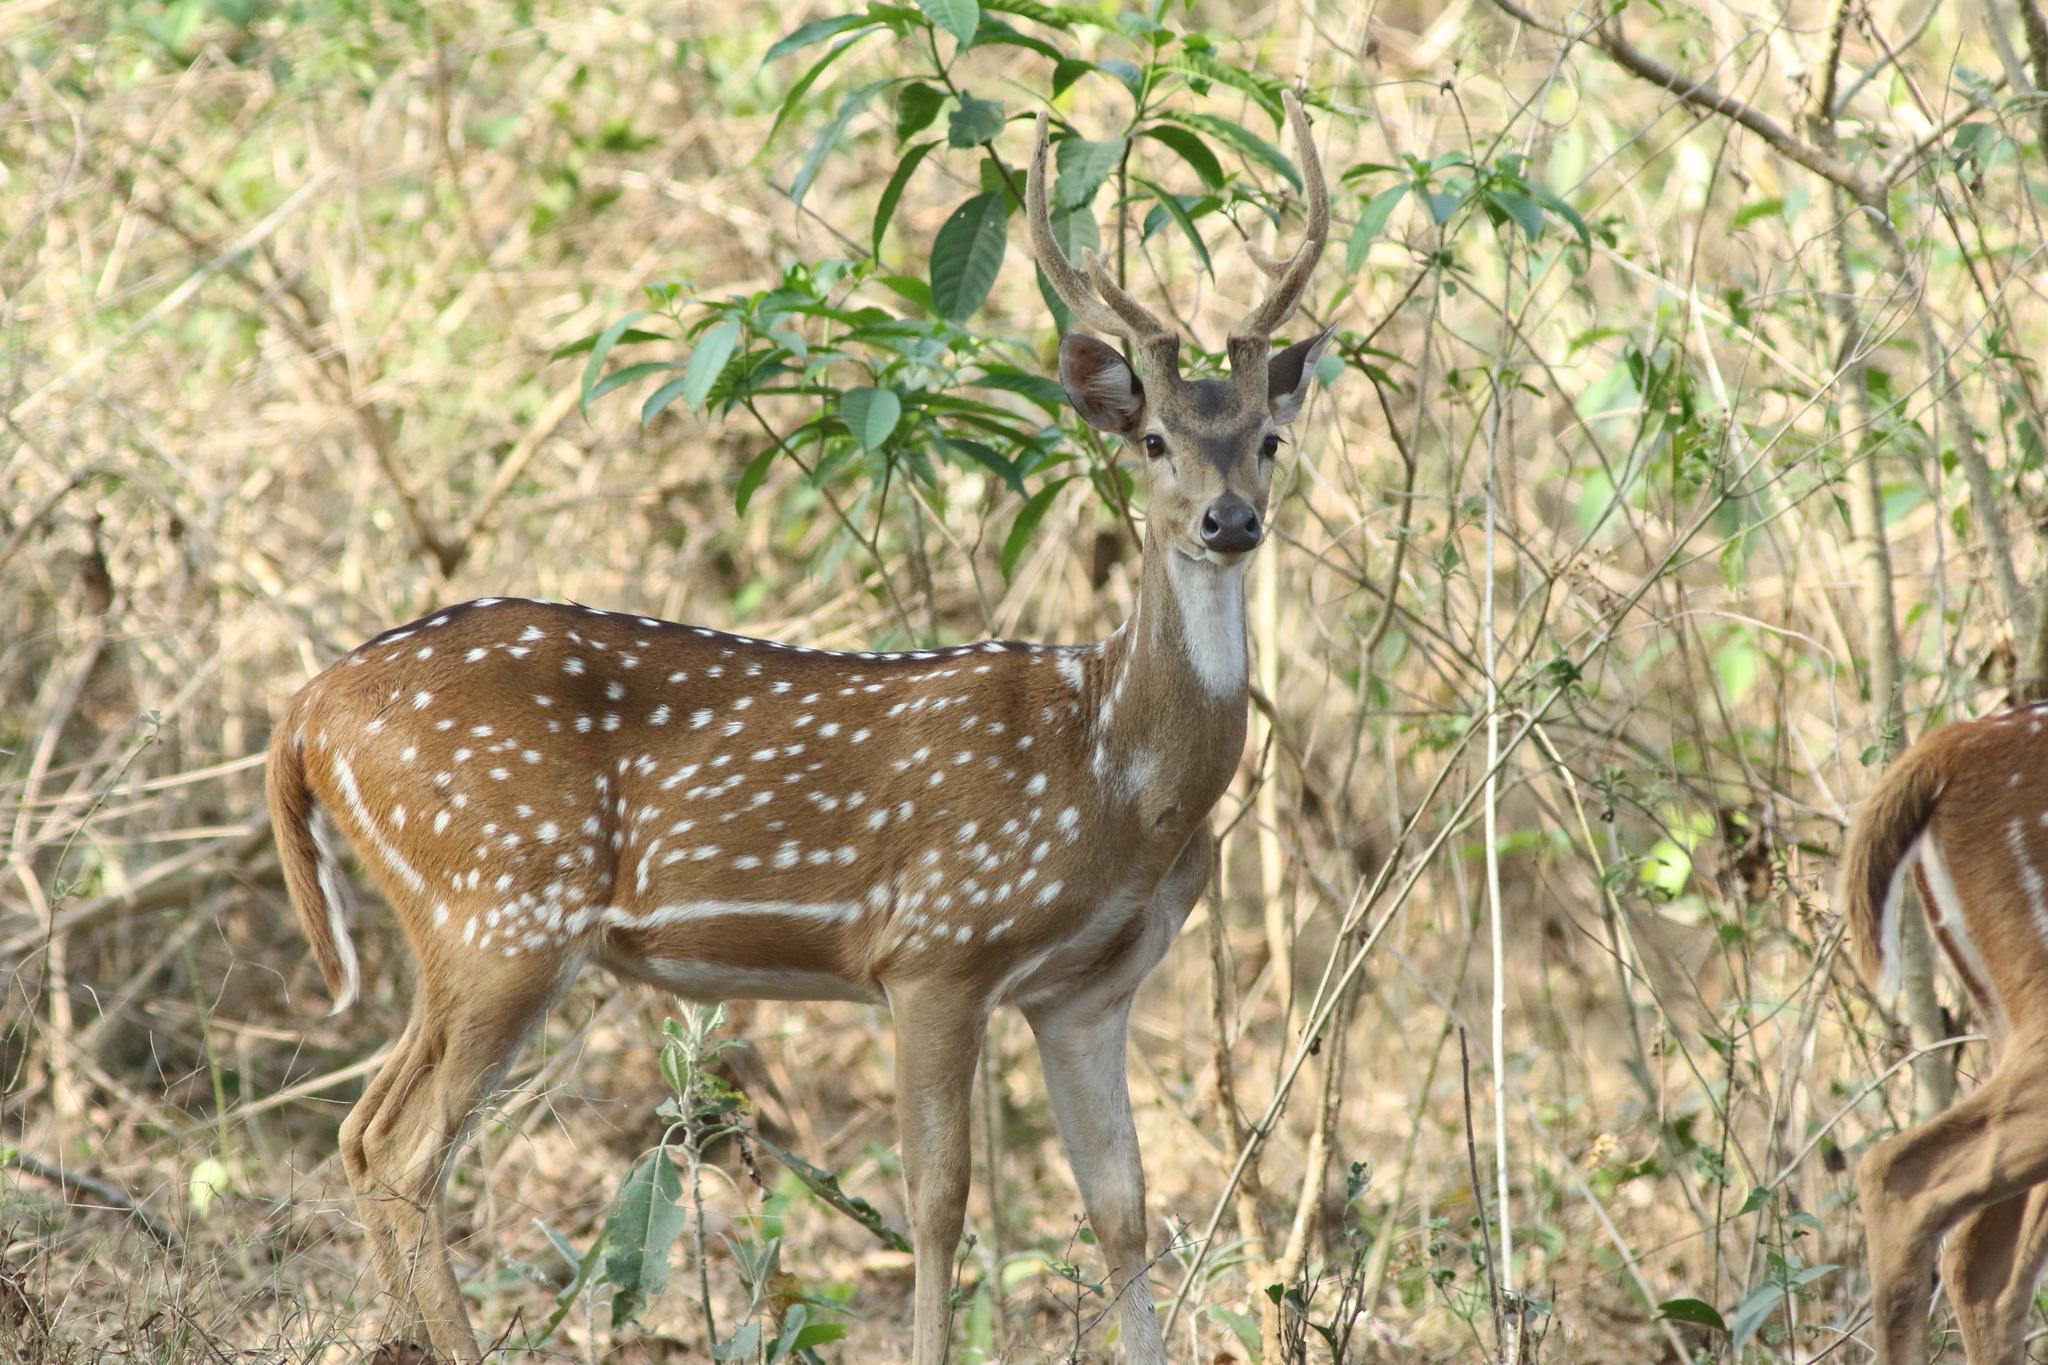Deer: (266, 94, 1328, 1360)
